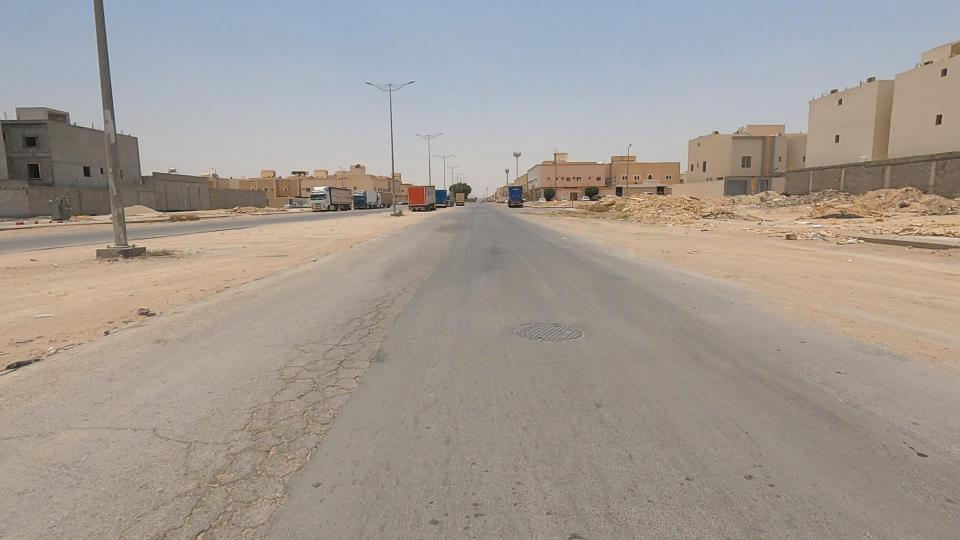POTHOLES: (183, 285, 378, 540), (272, 257, 472, 439)
